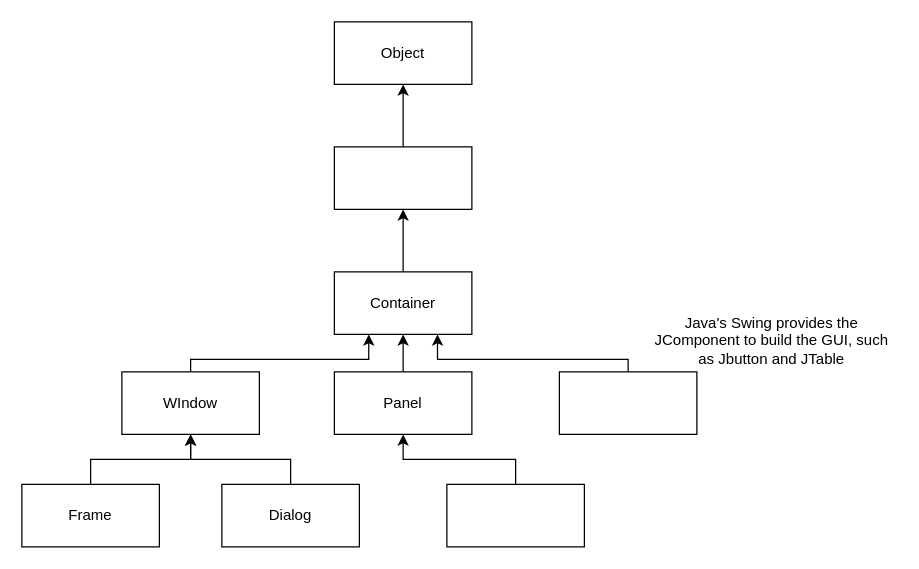
This 919x569 diagram has some shape labels left out. The centre of each missing label's shape, as x and y in pixels:
"Applet" goes at (x=515, y=515).
"Component" goes at (x=402, y=177).
"JCompoent" goes at (x=627, y=402).
